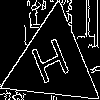H: (28, 37, 76, 94)
